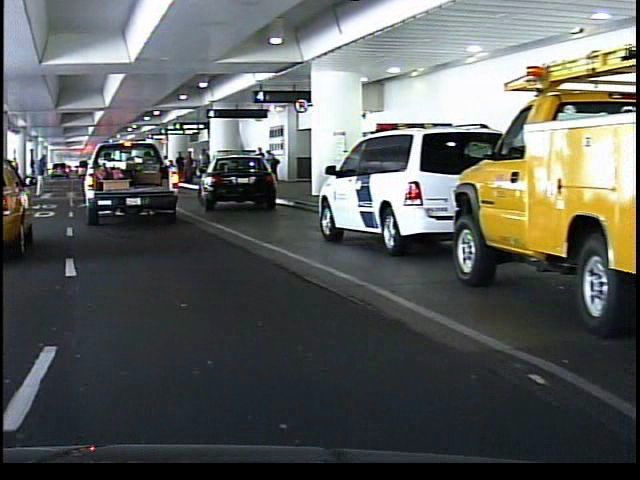person: (27, 151, 48, 203)
